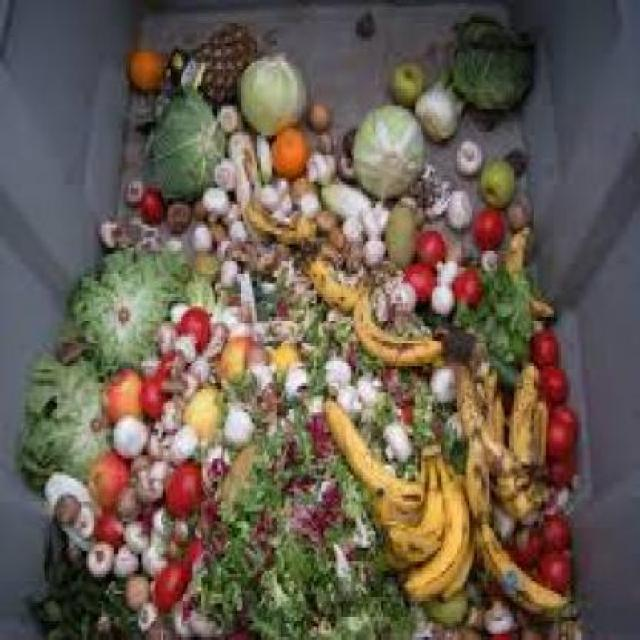garbage: (2, 0, 590, 637)
